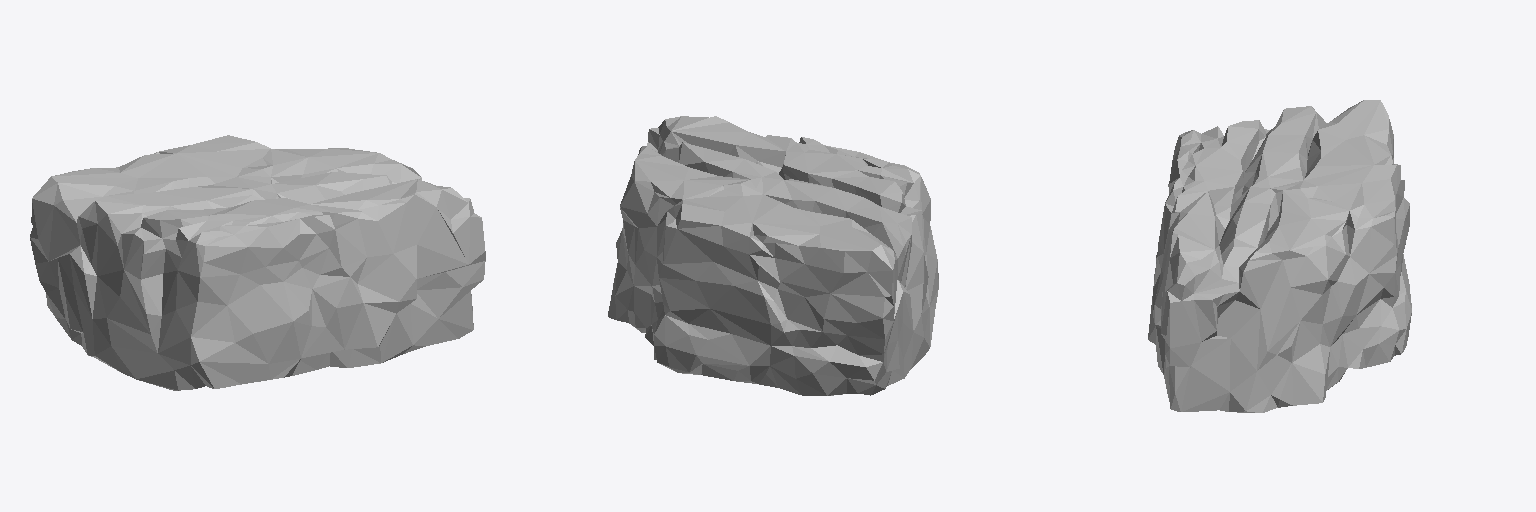
File: stone_5.obj
3 views of the same model, side by side, from view 1: azimuth 30°, elevation 25°; view 2: azimuth 150°, elevation 25°; view 3: azimuth 270°, elevation 25° (orthographic).
Visible parts, largest first — view 1: Aset_nature_rock_M_uisjbbis_LOD4; view 2: Aset_nature_rock_M_uisjbbis_LOD4; view 3: Aset_nature_rock_M_uisjbbis_LOD4.
Part boxes in pixels (x1,y1,x2,y2): Aset_nature_rock_M_uisjbbis_LOD4: (30,135,485,390); Aset_nature_rock_M_uisjbbis_LOD4: (608,116,938,395); Aset_nature_rock_M_uisjbbis_LOD4: (1148,100,1411,412).
Bounding box in the file's own units: 1.19 × 0.5251 × 0.783.